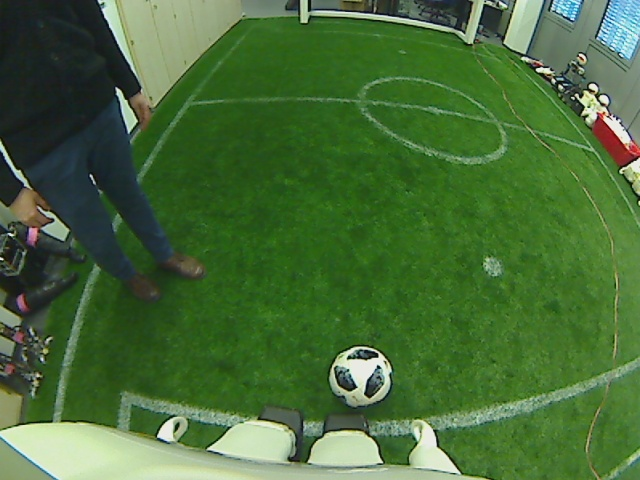ball: (327, 343, 394, 409)
